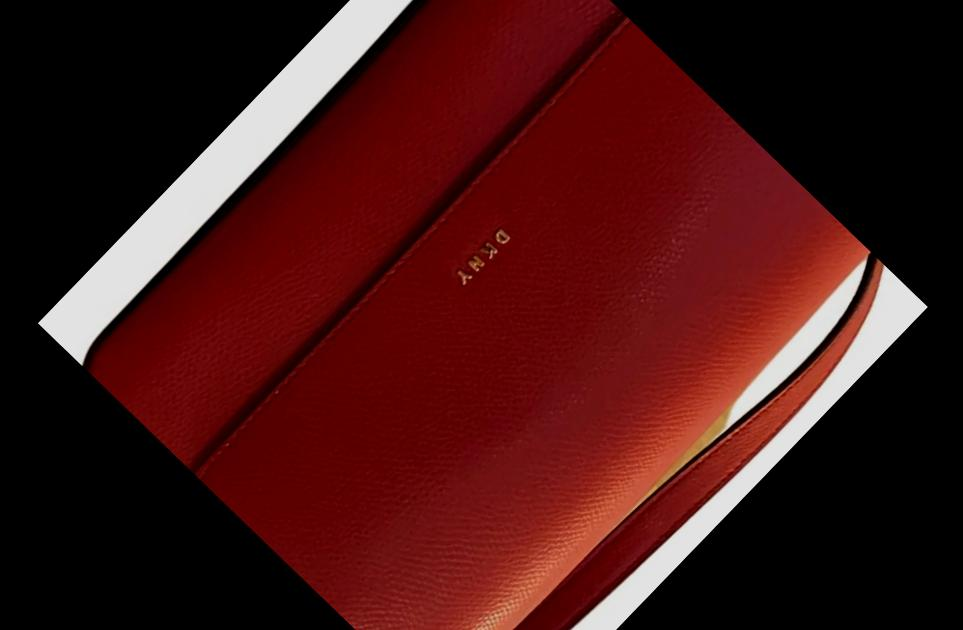DKNY: (452, 226, 511, 286)
